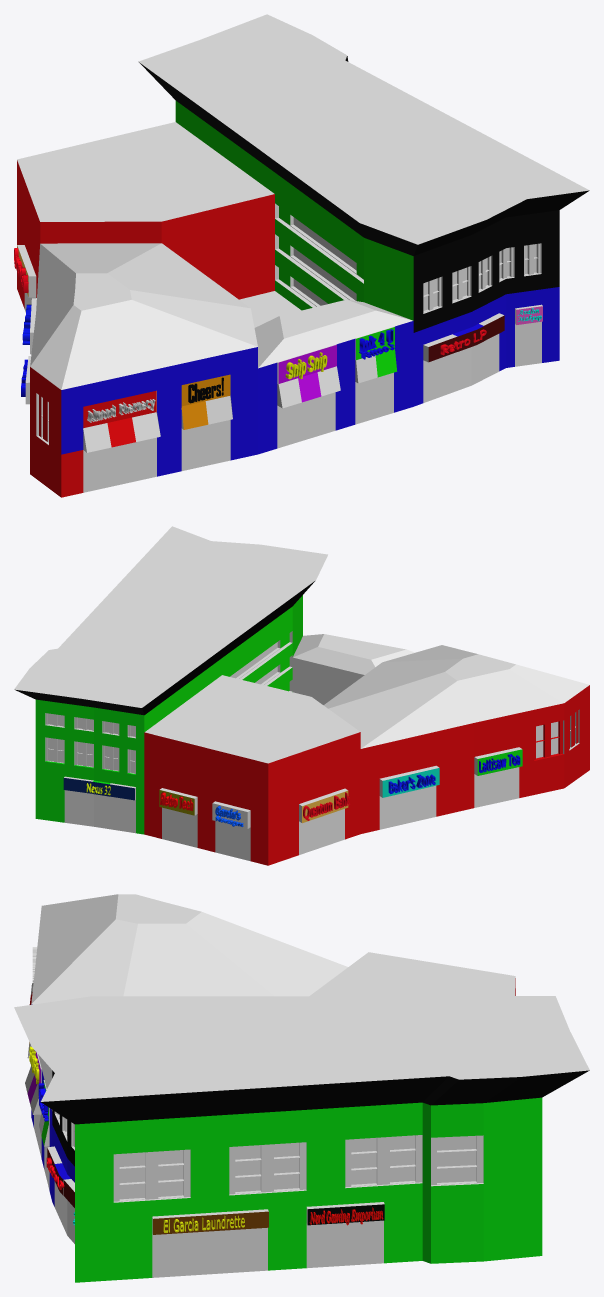
The model's file is the_four_towers_shopping_complex.fbx.
The picture shows the model from 3 angles, top to bottom: view 1: azimuth 30°, elevation 25°; view 2: azimuth 150°, elevation 25°; view 3: azimuth 270°, elevation 25°; orthographic projection. The views are drawn at different scales.
Visible parts, largest first — view 1: Plane, Text; view 2: Plane, Text.014, Text.013; view 3: Plane, Text.008, Text.007.
Boxes of the visible parts, x1,y1,x2,y2 form: Plane: (17,14,589,497); Text: (87,399,155,422); Plane: (14,526,589,865); Text.014: (388,774,435,793); Text.013: (303,792,350,820); Plane: (14,894,589,1282); Text.008: (309,1207,383,1225); Text.007: (163,1215,244,1232).
Size of the model in its own units: 514 by 166 by 462.
